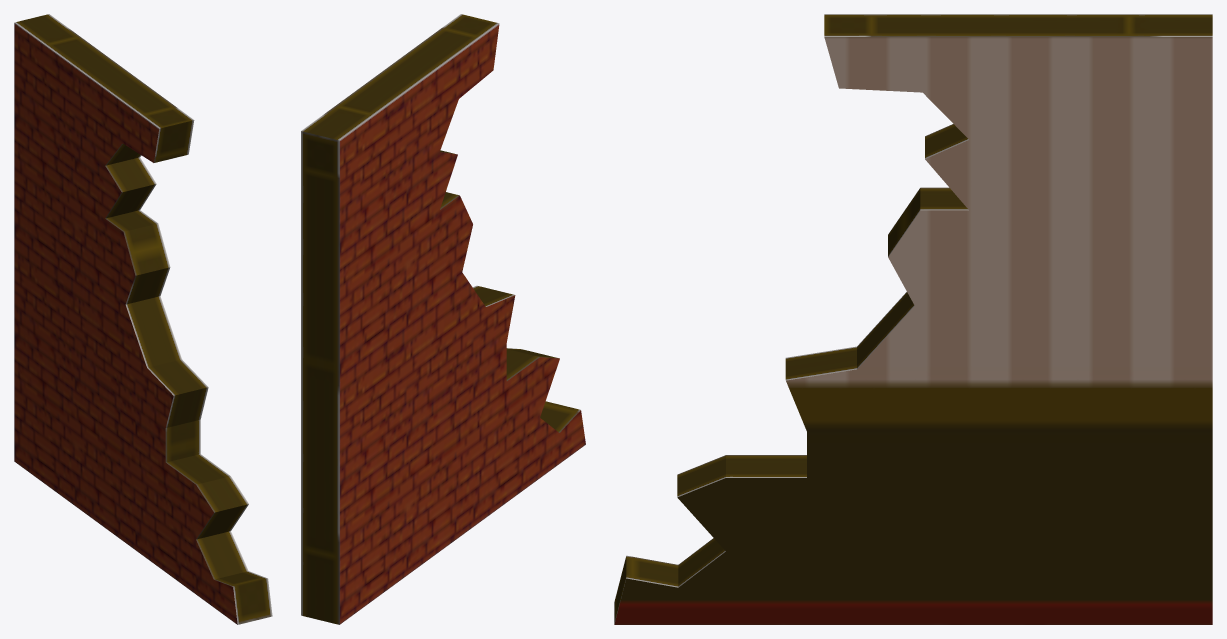
Rendered from Wall_Broken_L_03.fbx.
3 renders of one model, left to right at view 1: azimuth 30°, elevation 25°; view 2: azimuth 150°, elevation 25°; view 3: azimuth 270°, elevation 25°, orthographic. The views are drawn at different scales.
Parts seen in each view (by area): view 1: Wall_Broken_L_03; view 2: Wall_Broken_L_03; view 3: Wall_Broken_L_03.
Boxes of the visible parts, x1=… form: Wall_Broken_L_03: x1=14, y1=14, x2=272, y2=624; Wall_Broken_L_03: x1=301, y1=14, x2=585, y2=624; Wall_Broken_L_03: x1=614, y1=14, x2=1212, y2=624.
Size of the model in its own units: 50 by 600 by 553.
